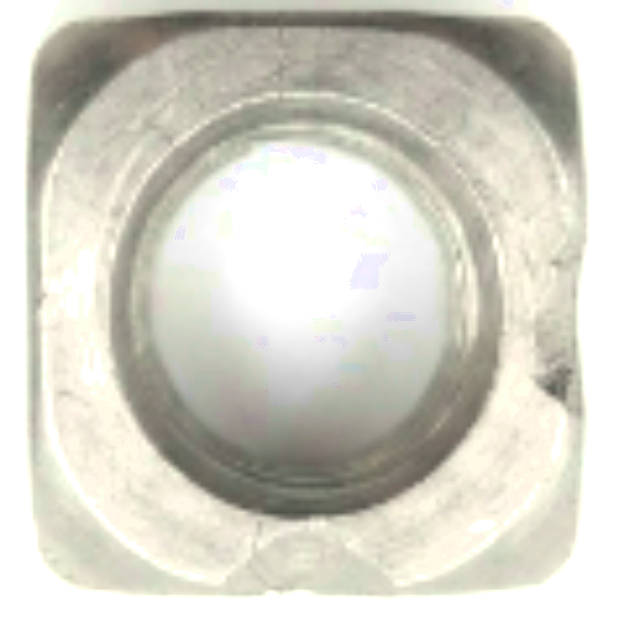defect: (219, 527, 411, 598), (532, 233, 589, 415)
